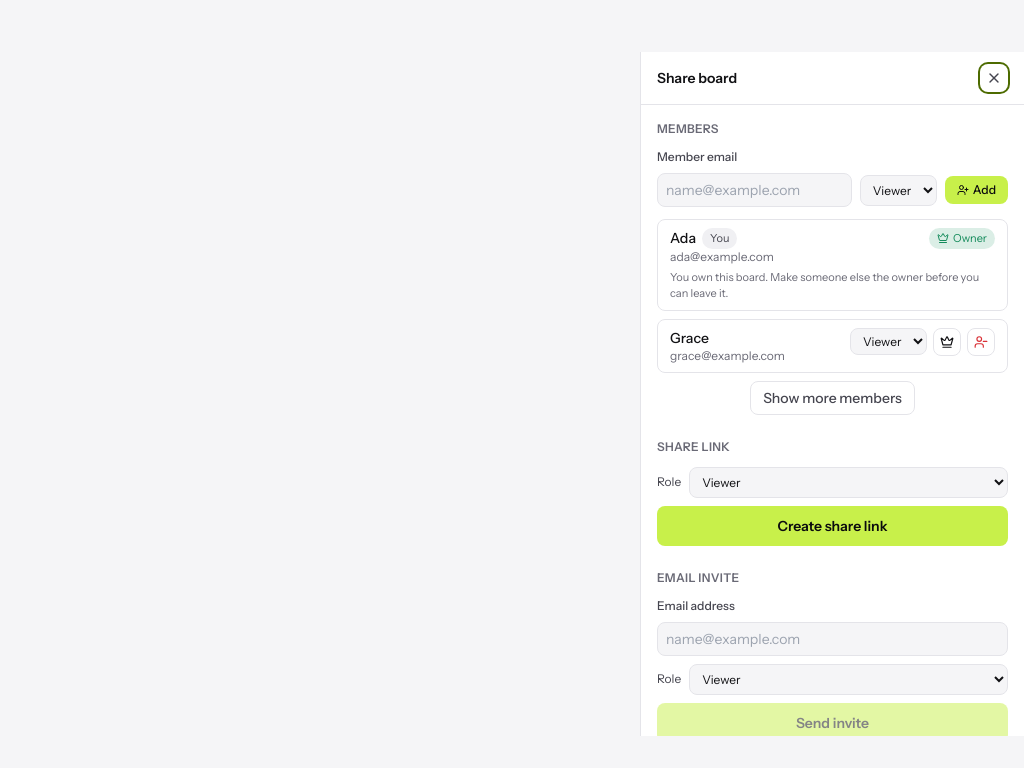
Test: BoardSharingPanel › shows more members on demand
This screenshot has width=1024, height=768.
Click the button "Show more members": point(832, 398) x1=750 y1=380 x2=915 y2=414
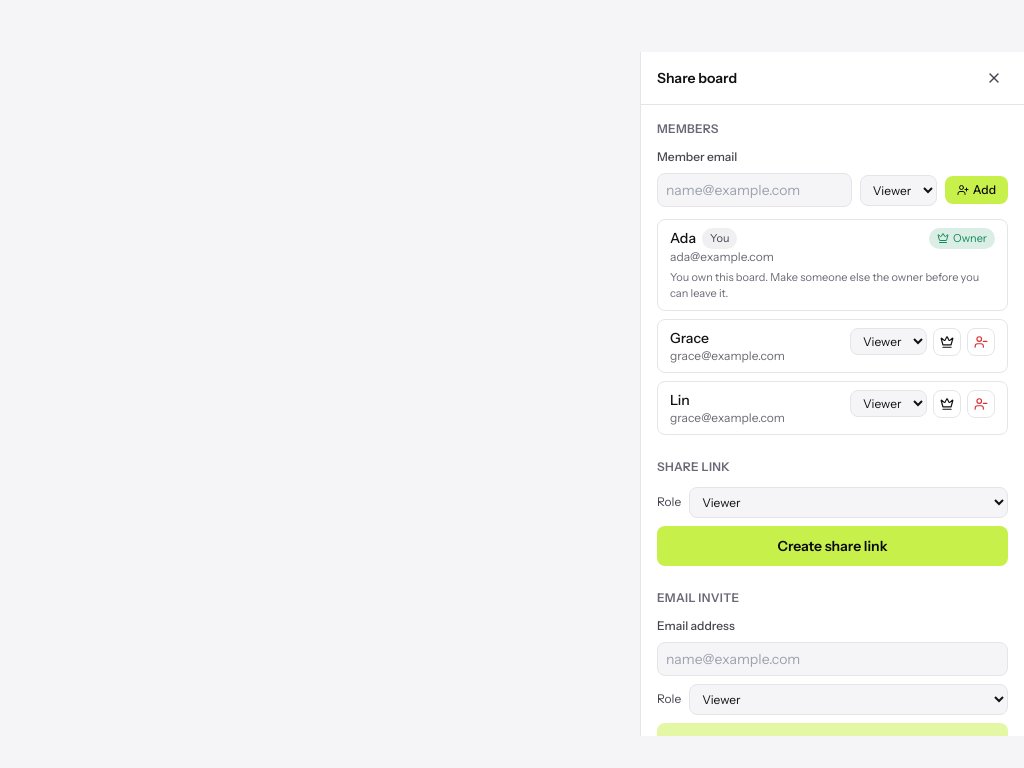
Result: the text "Lin" is shown at x1=670 y1=390 x2=690 y2=410
Result: the button "Show more members" is gone
